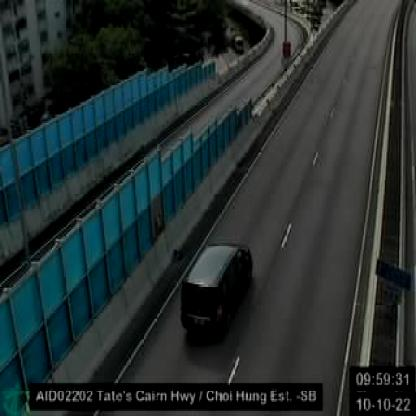Car: (182, 242, 252, 336)
